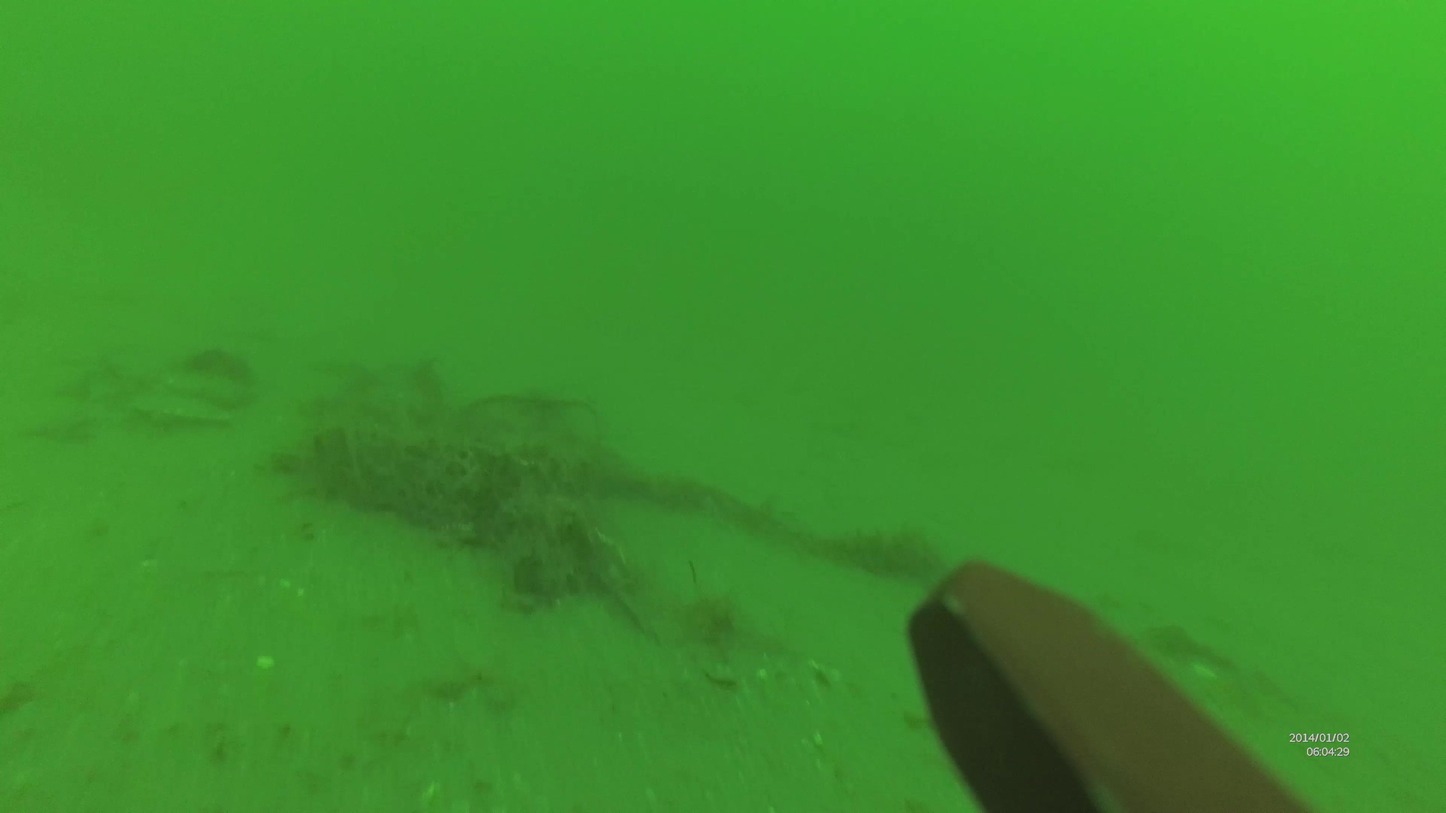scallop: (132, 384, 239, 423), (164, 371, 242, 402)
